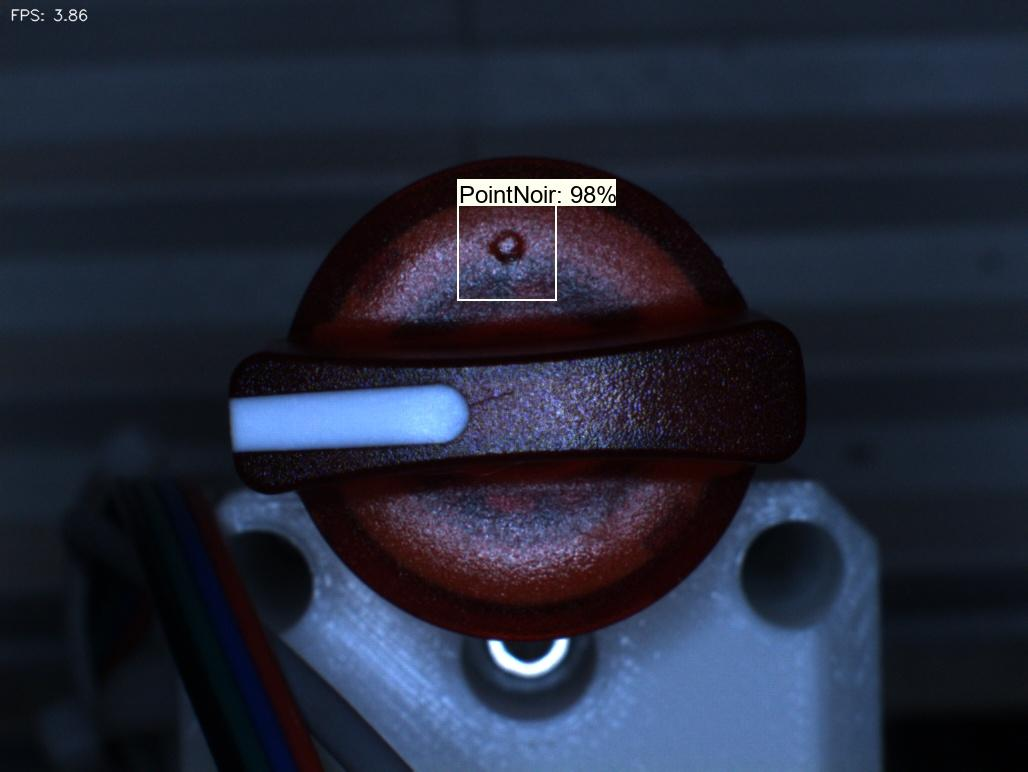Choc: (466, 208, 547, 294)
